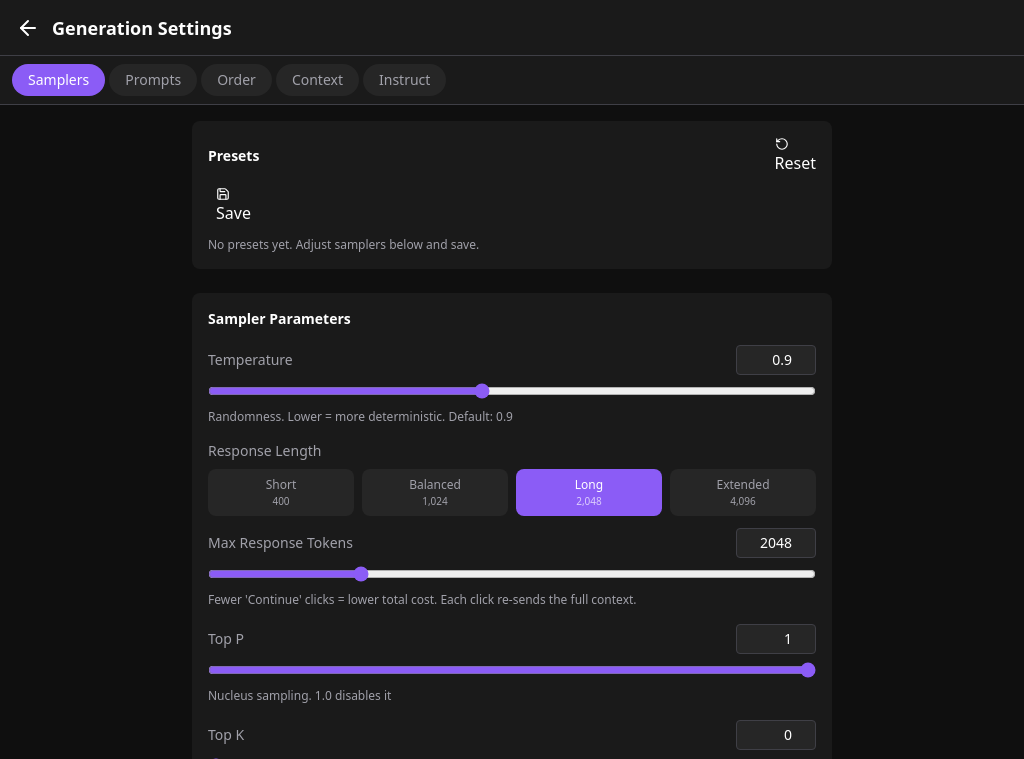
it: GenerationSettingsPage — the Show-exact-prompt checkbox (R6-C7) › is unchecked by default
Click the button "Prompts" at [153, 80], box [109,64,197,96]
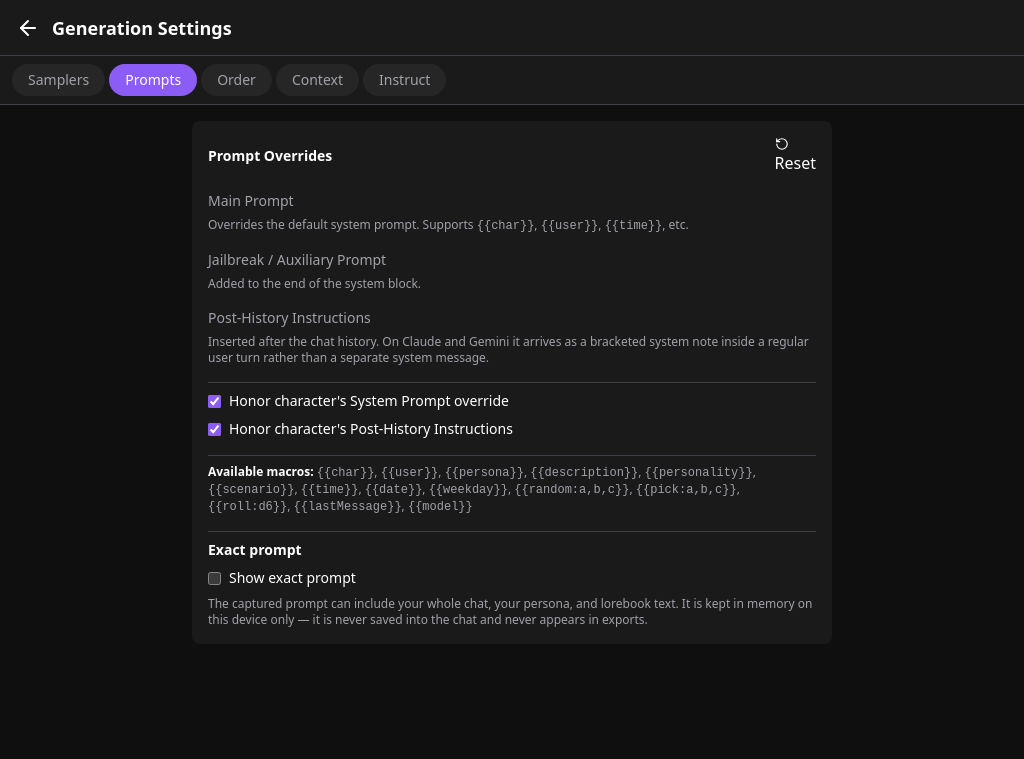
Now the checkbox labelled "Show exact prompt" is not checked, box [208,572,221,584]
